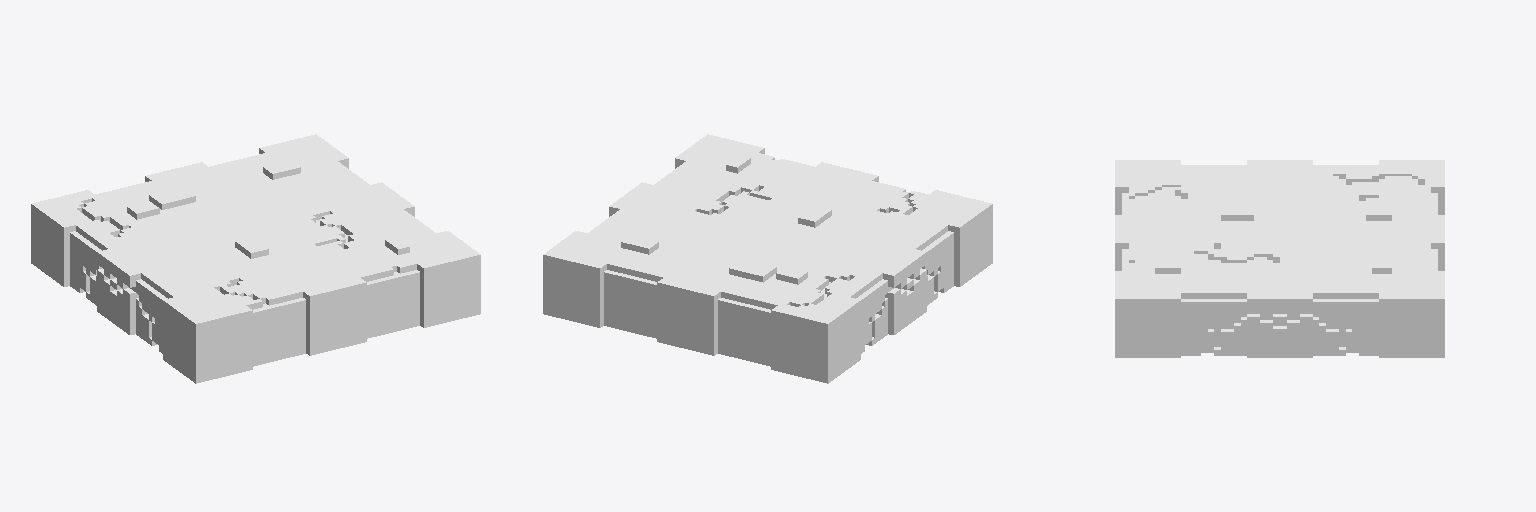
File: vox-65-Floor.obj
3 renders of one model, left to right at view 1: azimuth 30°, elevation 25°; view 2: azimuth 150°, elevation 25°; view 3: azimuth 270°, elevation 25°, orthographic.
Parts seen in each view (by area): view 1: Floor; view 2: Floor; view 3: Floor.
Boxes of the visible parts, x1,y1,x2,y2 form: Floor: [31, 134, 480, 383]; Floor: [543, 134, 992, 383]; Floor: [1115, 160, 1444, 357].
Bounding box in the file's own units: 5 × 1.1 × 5.